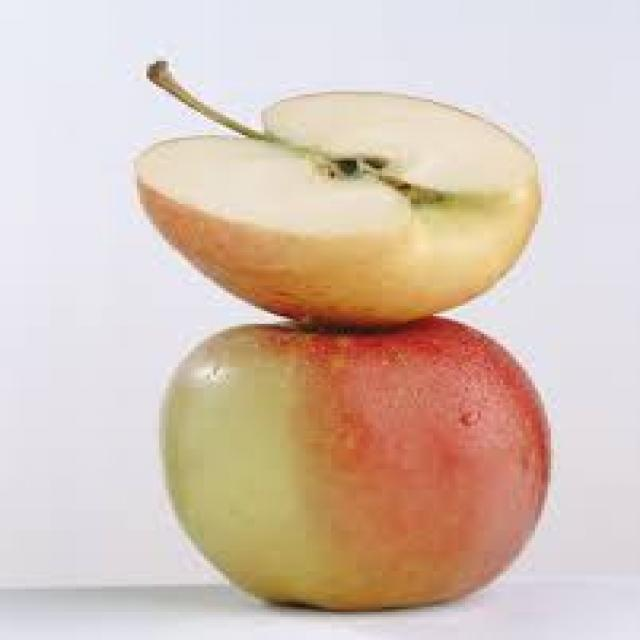Apple: (162, 329, 549, 608), (134, 96, 550, 328)
